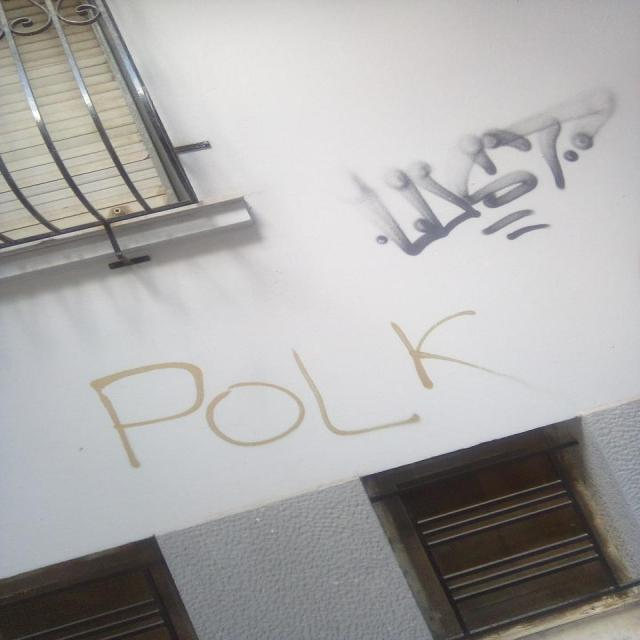nonspitting: (87, 308, 497, 467), (358, 89, 614, 263)
